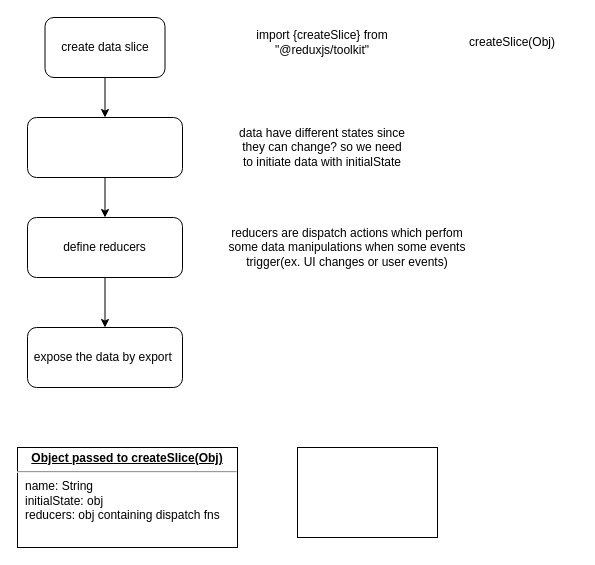
This 595x565 diagram has some shape labels left out. The box of each missing label's shape, as (x1, y1, x2, y2) in pixels:
define initialState of data: (26, 116, 182, 178)
initialState origin: null destination: null travelTimeInfo: null: (296, 446, 438, 538)
